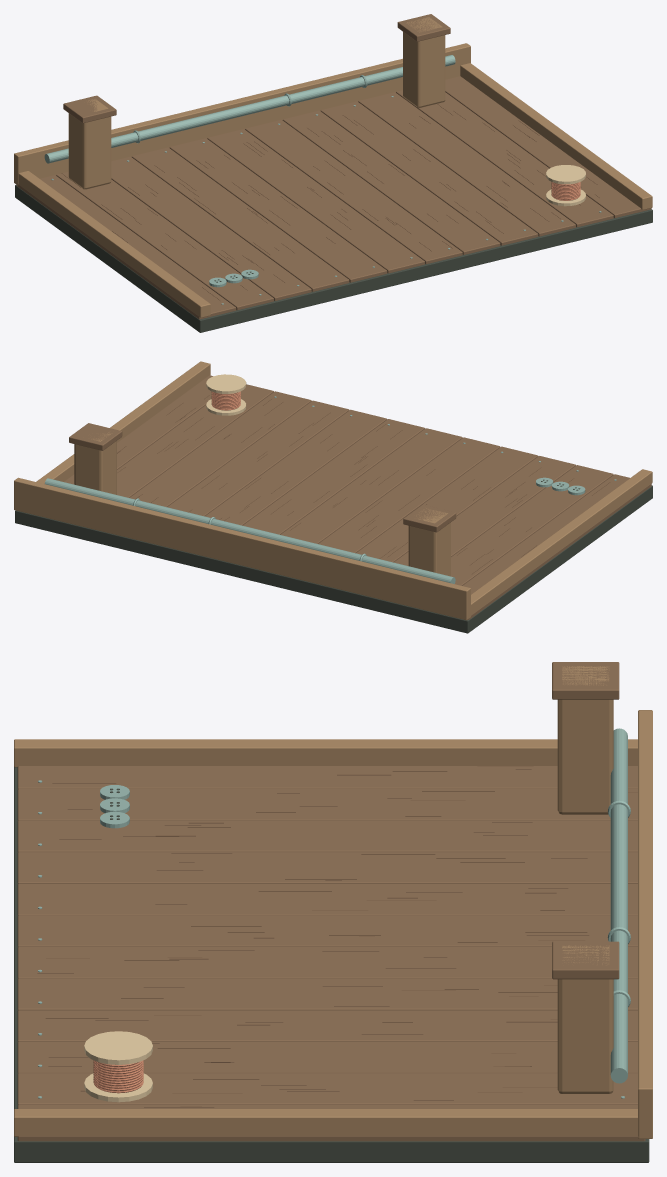
Rendered from floor.glb.
3 renders of one model, top to bottom at view 1: azimuth 30°, elevation 25°; view 2: azimuth 150°, elevation 25°; view 3: azimuth 270°, elevation 25°, orthographic. The views are drawn at different scales.
Parts seen in each view (by area): view 1: Socle, Plinthe, Lame de parquet.003, Lame de parquet.004, Lame de parquet.007, Lame de parquet.008, Lame de parquet.009, Lame de parquet.005, Lame de parquet.006, Lame de parquet.002, Lame de parquet.001, Lame de parquet.010 (+10 smaller); view 2: Plinthe, Socle, Lame de parquet.004, Lame de parquet.005, Lame de parquet.006, Lame de parquet.008, Lame de parquet.009, Lame de parquet.007, Lame de parquet.001, Lame de parquet.010, Lame de parquet.003, Lame de parquet.002 (+10 smaller); view 3: Lame de parquet.002, Lame de parquet.003, Lame de parquet.004, Lame de parquet.005, Lame de parquet.007, Lame de parquet.006, Lame de parquet.008, Lame de parquet.001, Lame de parquet.010, Solive.001, Lame de parquet.009, Socle (+11 smaller).
Part boxes in pixels (x1,y1,x2,y2): Socle: (15, 184, 652, 332); Plinthe: (14, 43, 470, 185); Lame de parquet.003: (132, 147, 349, 291); Lame de parquet.004: (169, 138, 387, 282); Lame de parquet.007: (282, 110, 500, 254); Lame de parquet.008: (320, 101, 538, 245); Lame de parquet.009: (358, 92, 575, 236); Lame de parquet.005: (207, 129, 424, 273); Lame de parquet.006: (245, 119, 462, 264); Lame de parquet.002: (111, 156, 311, 300); Lame de parquet.001: (56, 171, 273, 310); Lame de parquet.010: (396, 90, 613, 227); Plinthe: (14, 477, 470, 620); Socle: (15, 485, 652, 633); Lame de parquet.004: (318, 437, 500, 553); Lame de parquet.005: (280, 428, 462, 543); Lame de parquet.006: (243, 419, 424, 534); Lame de parquet.008: (167, 400, 349, 516); Lame de parquet.009: (129, 391, 311, 506); Lame de parquet.007: (205, 409, 387, 525); Lame de parquet.001: (451, 465, 613, 585); Lame de parquet.010: (117, 384, 273, 497); Lame de parquet.003: (356, 446, 538, 562); Lame de parquet.002: (393, 456, 575, 565); Lame de parquet.002: (17, 820, 637, 852); Lame de parquet.003: (17, 852, 637, 884); Lame de parquet.004: (17, 884, 637, 915); Lame de parquet.005: (17, 915, 637, 947); Lame de parquet.007: (17, 978, 637, 1010); Lame de parquet.006: (17, 947, 637, 978); Lame de parquet.008: (17, 1010, 637, 1042); Lame de parquet.001: (17, 789, 637, 821); Lame de parquet.010: (17, 1073, 637, 1105); Solive.001: (14, 1109, 637, 1136); Lame de parquet.009: (17, 1041, 637, 1073); Socle: (14, 767, 649, 1162).
Size of the model in its own units: 24 by 4.61 by 17.1.
